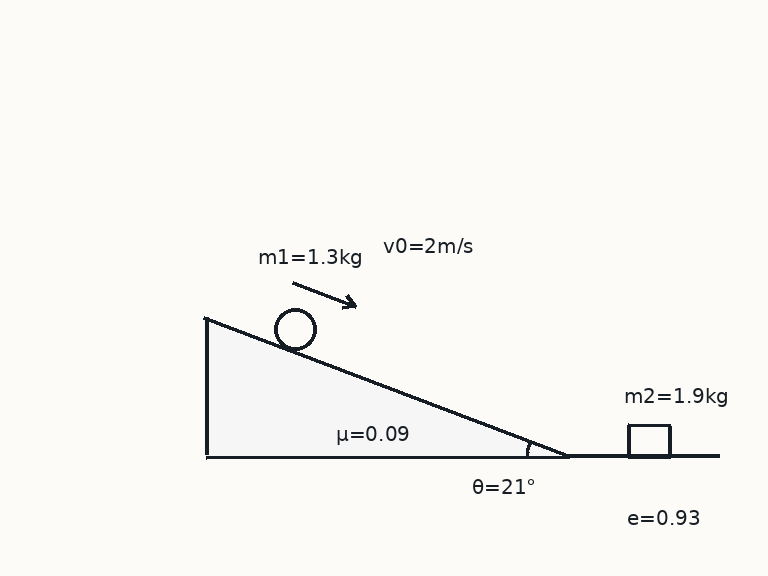ball: (272, 306, 318, 352)
block: (626, 423, 672, 458)
ramp: (203, 315, 569, 458)
